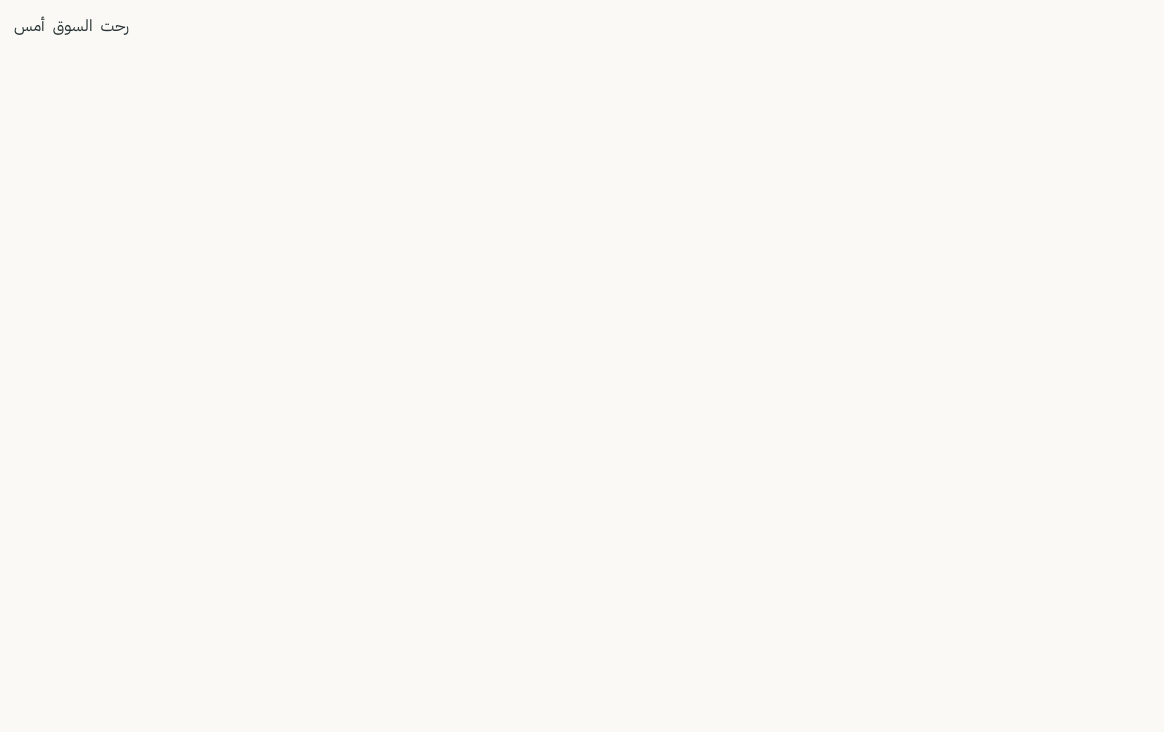
Test: selecting a phrase › takes the whole span between the two ends
Press the mouse on the button with aria-label "ابحث عن «رحت»" at (115, 26), box [98, 12, 131, 39]
Wait 500 ms
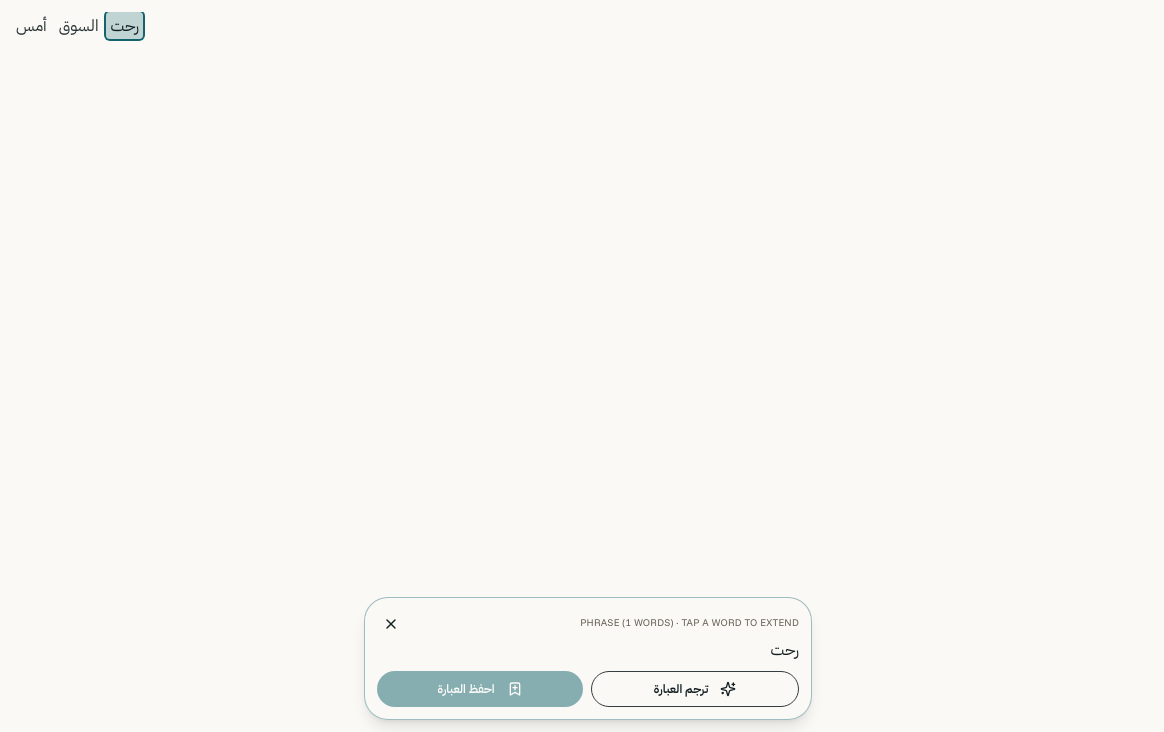
Click the button with aria-label "مدّد التحديد إلى «أمس»" at (31, 25), box [16, 15, 47, 35]
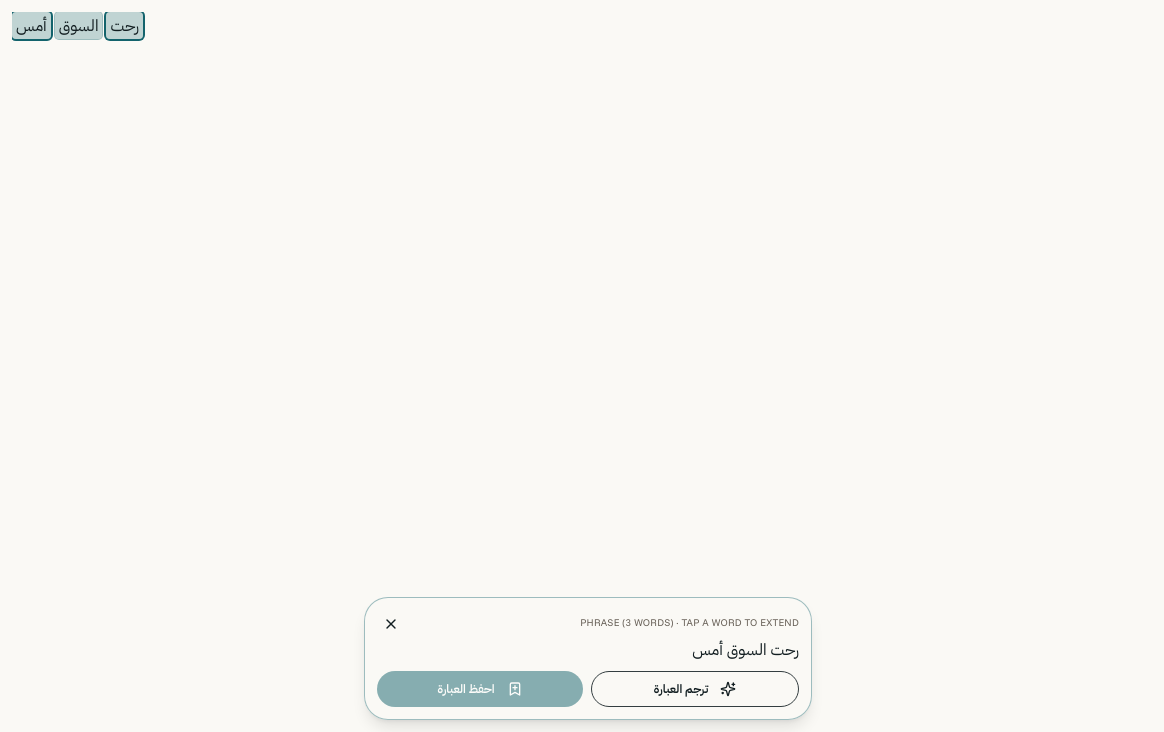
Expected: the text "رحت السوق أمس" is shown, [692, 639, 799, 659]
